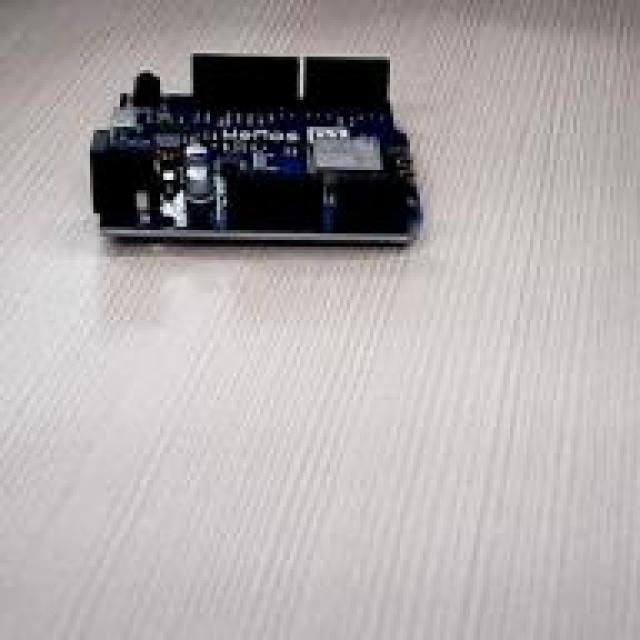Wemos: (91, 54, 421, 241)
